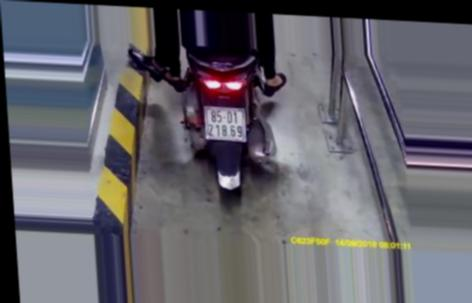License_Plate: (198, 101, 254, 147)
